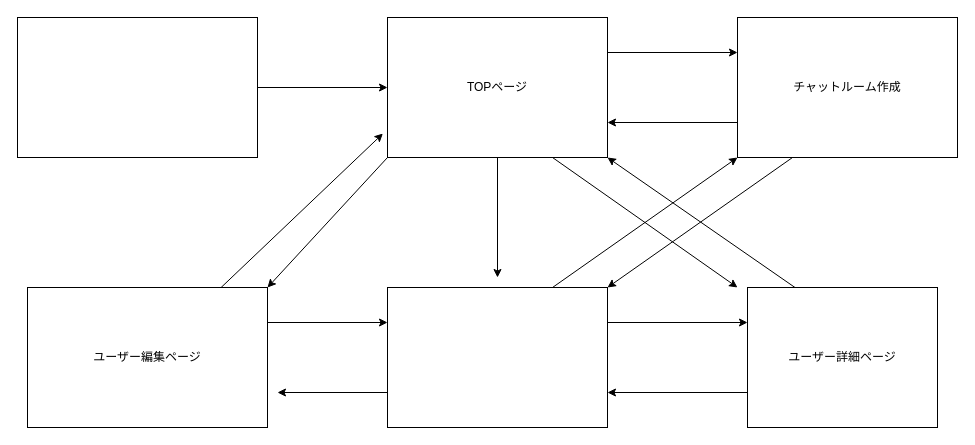
Some shapes in this 975 by 445 pixel diagram are drawn without their labels. The shapes that lost their labels are listed below. From the top down, each one's box as (x1, y1, x2, y2) in pixels, then its label:
(16, 16, 258, 158): 新規登録画面/ログインページ
(386, 286, 608, 428): チャット一覧/投稿ページ
